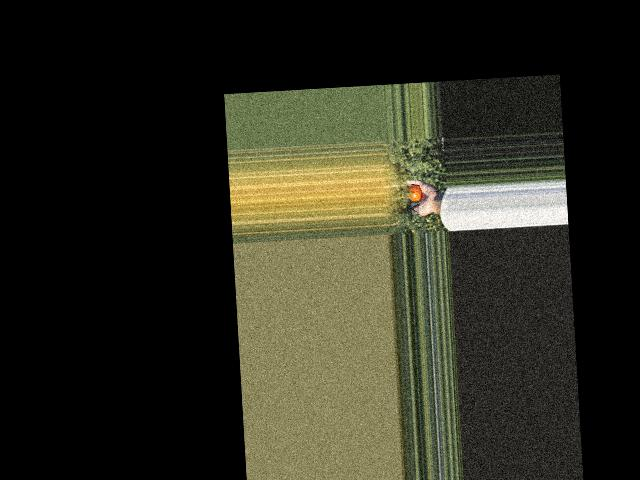tomato: (406, 184, 422, 201)
